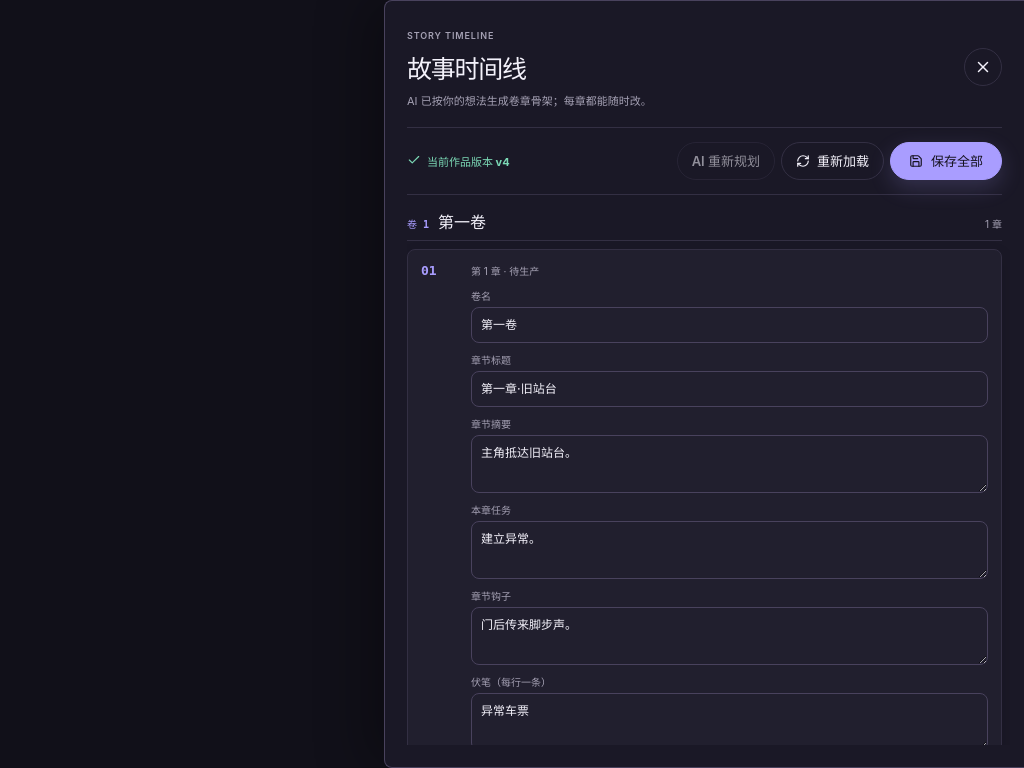
Test: StoryTimelinePanel › keeps the edited draft visible when the optimistic save conflicts
Replace the text in the field showing "第一章·旧站台" with "冲突后仍保留的草稿": (730,389) x1=471 y1=371 x2=988 y2=407
(page scrolled)
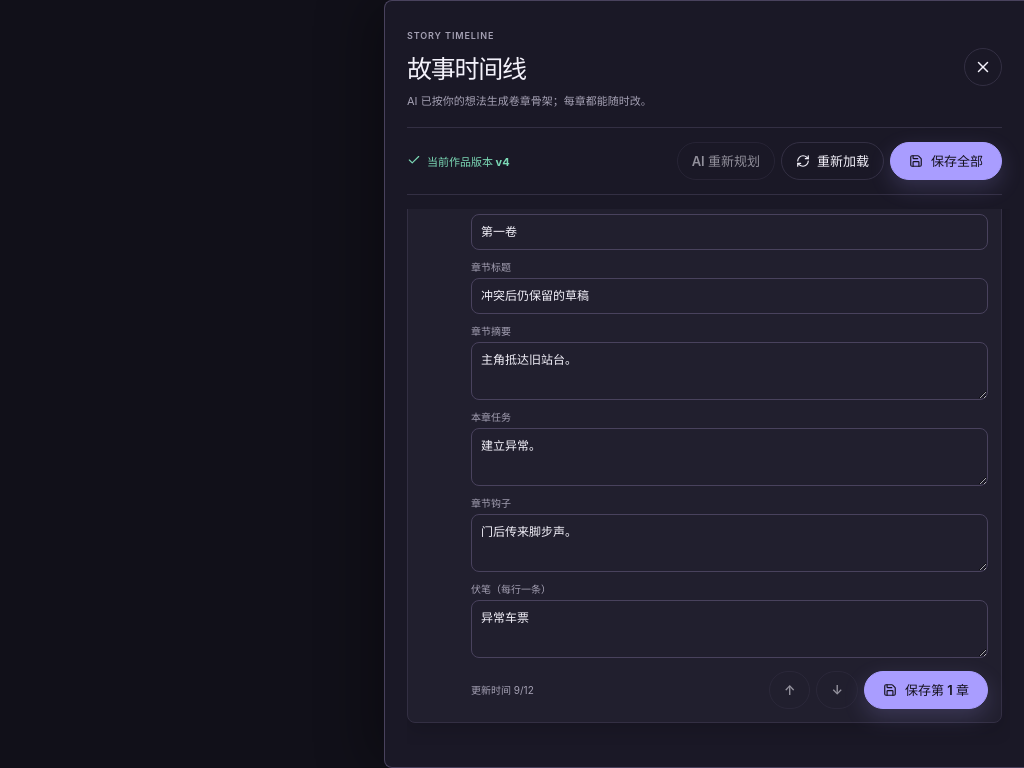
Click the button "保存第 1 章": (926,690) x1=864 y1=671 x2=988 y2=709
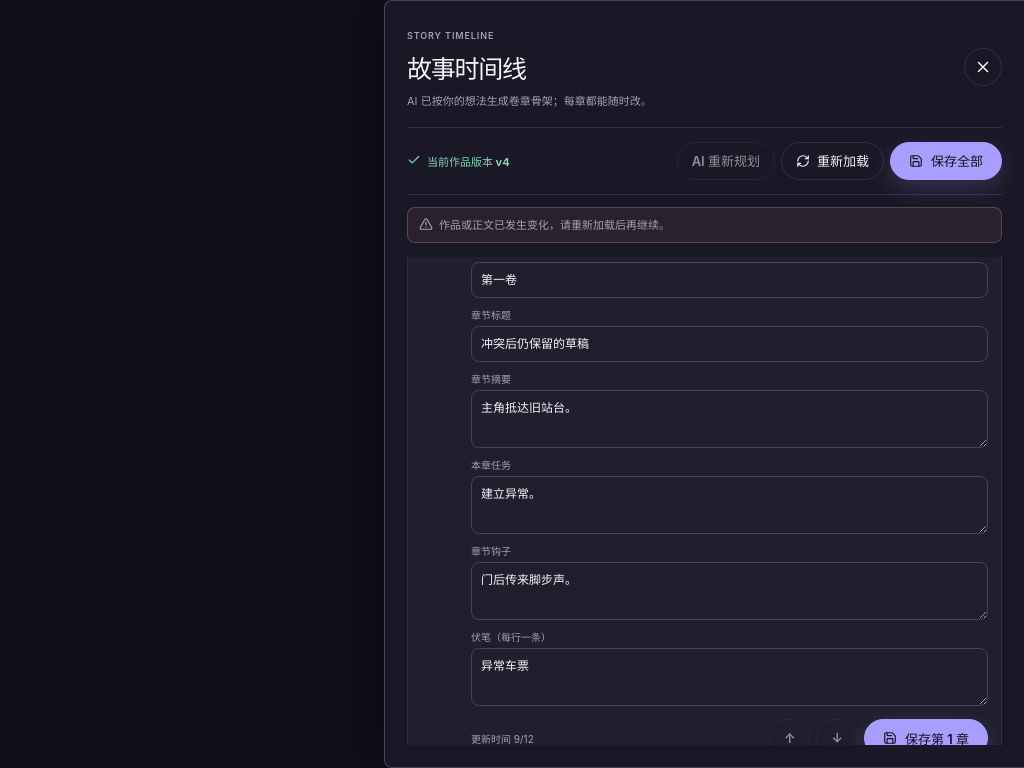
expect the message shows "作品或正文已发生变化": met, box x1=439 y1=218 x2=670 y2=232
